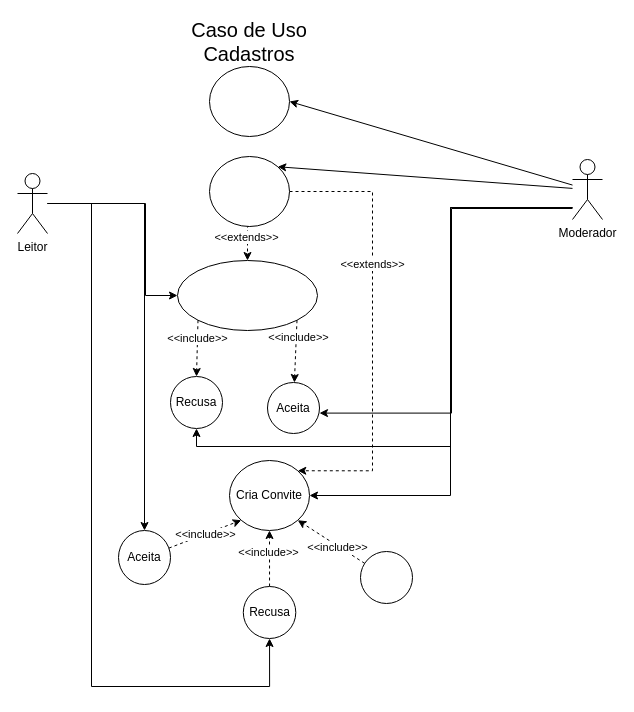
Some shapes in this 634 by 712 pixel diagram are drawn without their labels. The centre of each missing label's shape, as x and y in pixels:
Cadastro no App: the point at 249,101
Cria Grupo: the point at 249,191
Expira: the point at 386,577
Inscreve Lista de Interessados: the point at 247,295
